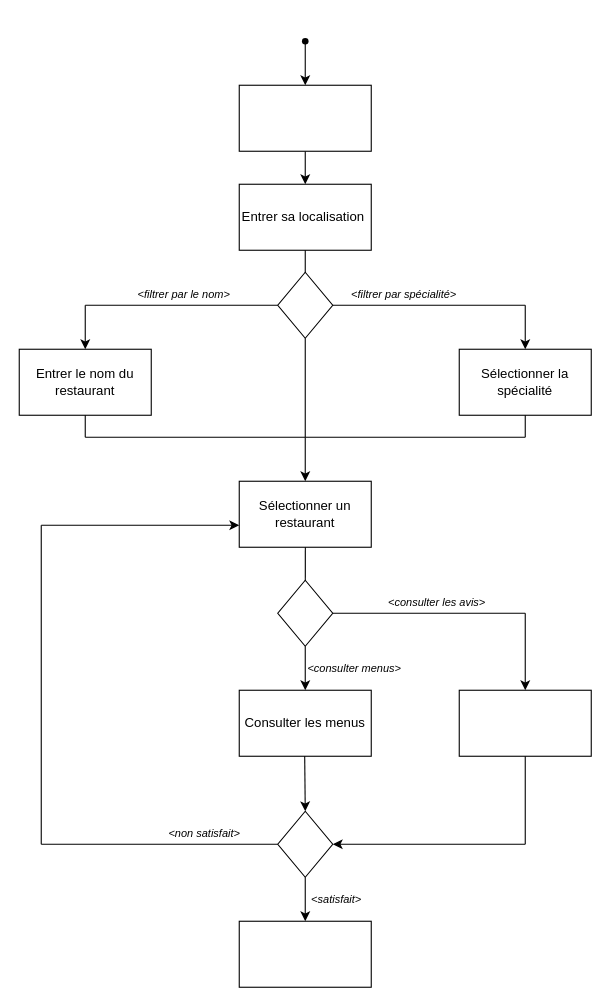
The diagram is 611 pixels wide and 1007 high, and some of its shapes have lost their labels. Here are the shapes that lost their labels. From the top down, the box of each, then its label:
(238, 84, 371, 151): Entrer dans l'application
(458, 689, 591, 756): Consulter les avis
(238, 920, 371, 987): Faire une commande
